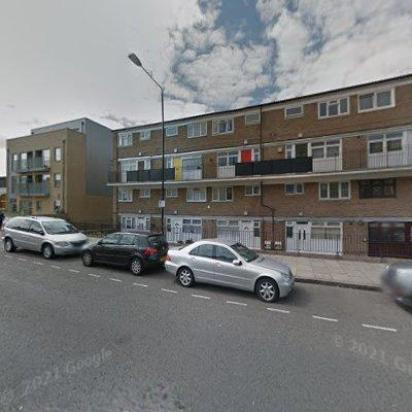stationary-car-onstreet: (166, 240, 294, 302), (0, 214, 90, 260), (80, 231, 168, 275), (382, 258, 410, 328)
